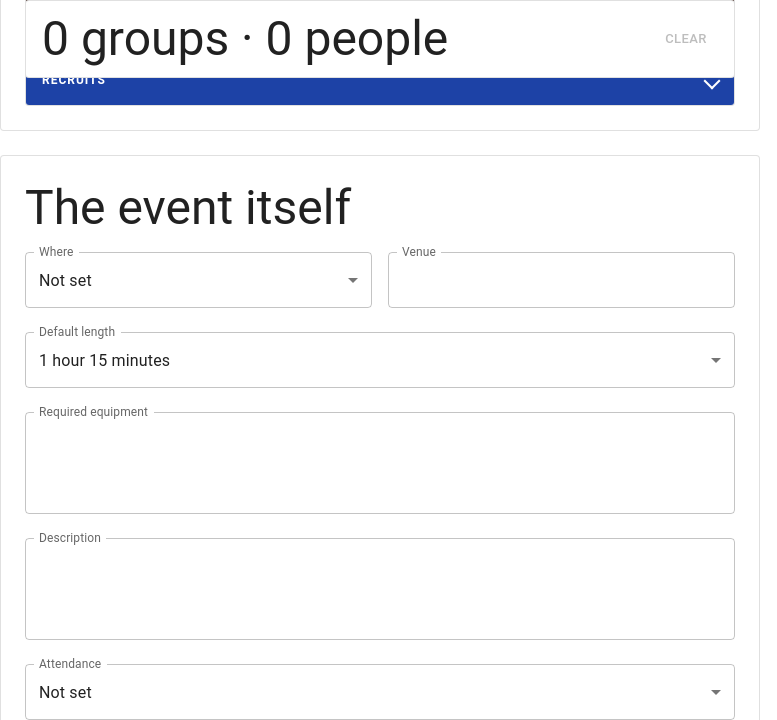
it: W8-02 — one template › C6 — the default length is a fixed choice, not freeform text › drops the off-grid option once the operator picks one of the eight
(page scrolled)
Press the mouse on the dropdown named "Default length" at [105, 360], box [39,350,170,370]
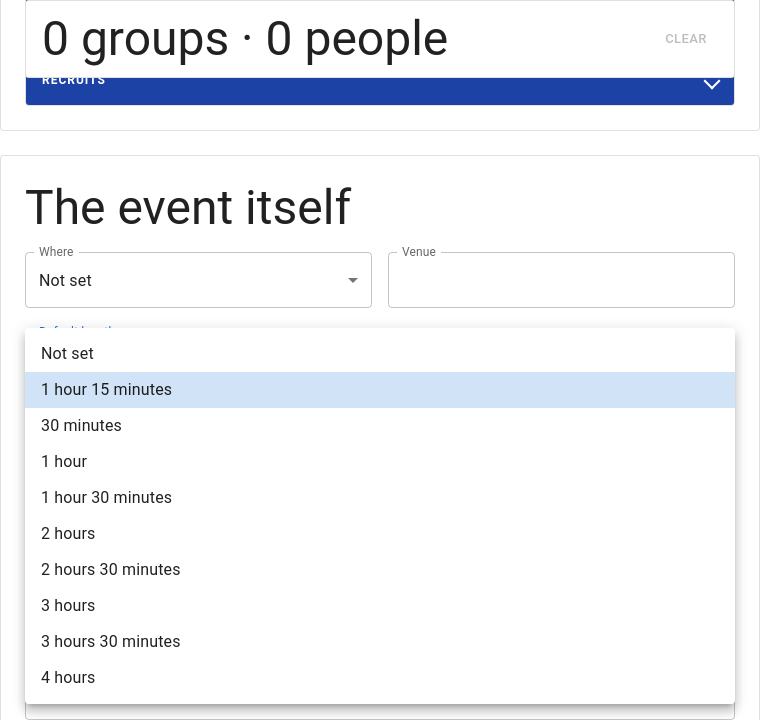
Click the option "1 hour". click: [64, 462]
box: [41,452,87,471]
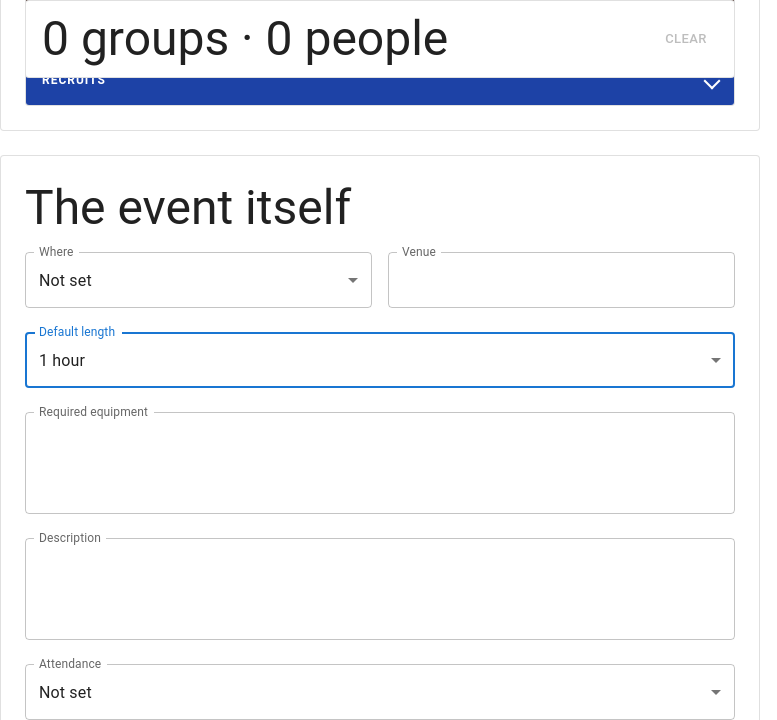
Expected: the element named "defaultDurationMinutes" holds "60", [25,332,735,388]
Expected: the dropdown "1 hour 15 minutes" is gone
